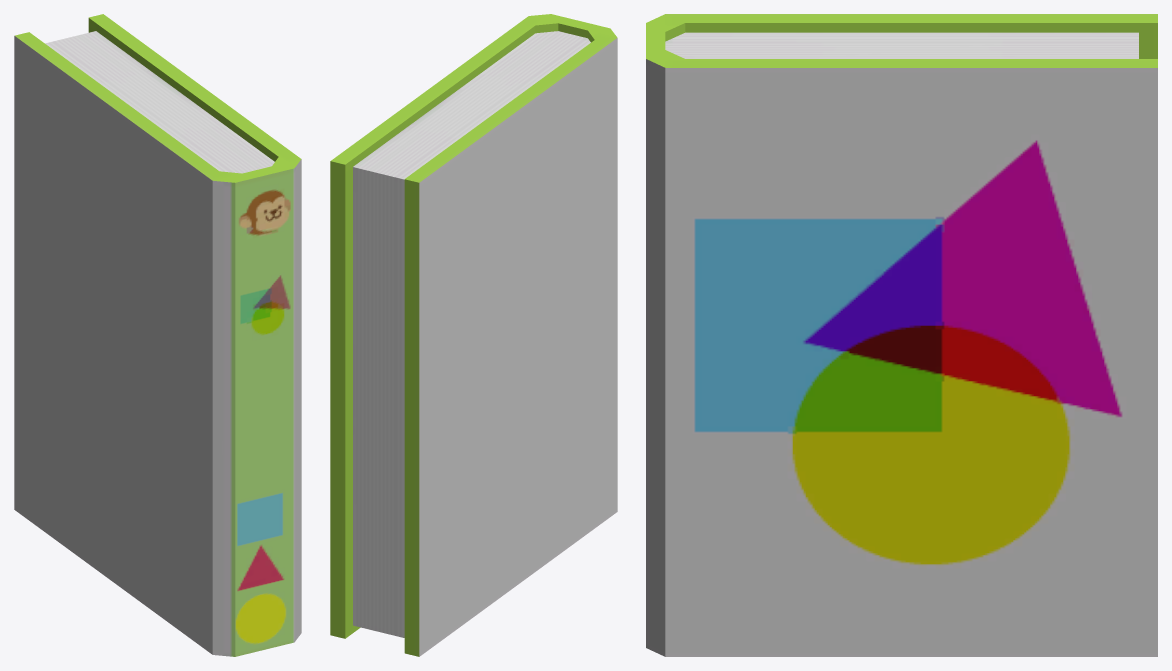
The model's file is BookShape.fbx.
3 renders of one model, left to right at view 1: azimuth 30°, elevation 25°; view 2: azimuth 150°, elevation 25°; view 3: azimuth 270°, elevation 25°, orthographic. The views are drawn at different scales.
Visible parts, largest first — view 1: Cube.011; view 2: Cube.011; view 3: Cube.011.
Part boxes in pixels (box(x1,y1,x2,y2)): Cube.011: box(14, 14, 301, 656); Cube.011: box(330, 14, 617, 656); Cube.011: box(646, 14, 1157, 656).
Size of the model in its own units: 47.11 by 240 by 189.
